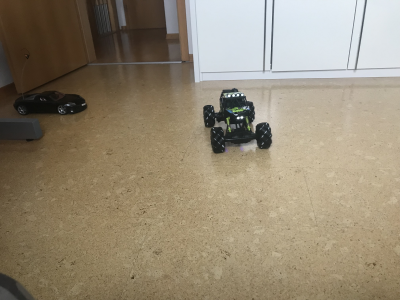remote control car: (200, 85, 275, 155)
